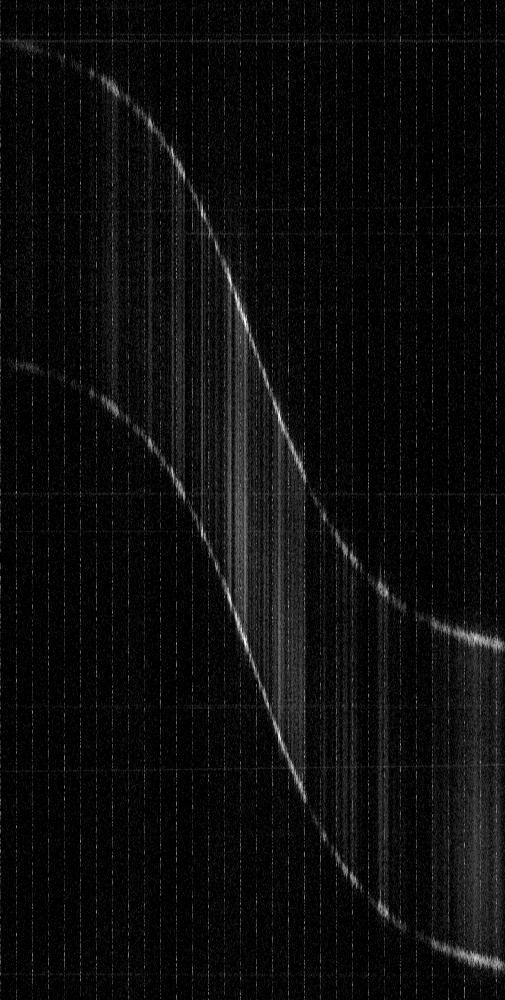signal: (0, 0, 504, 999)
